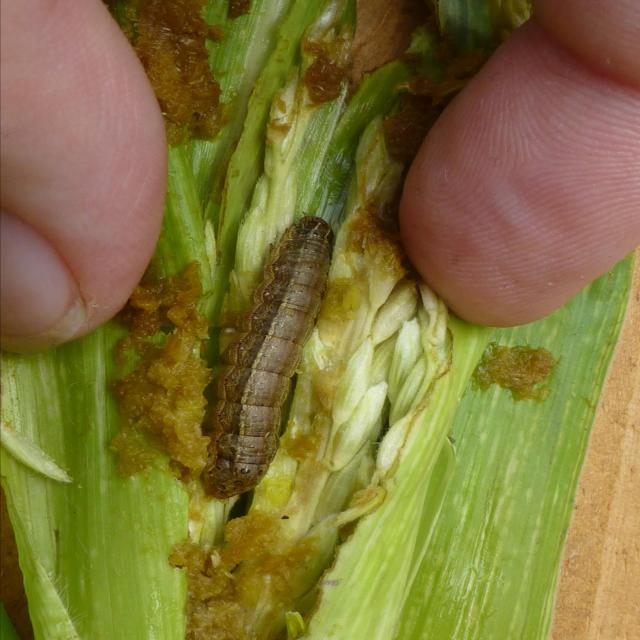army worm: (187, 209, 339, 507)
